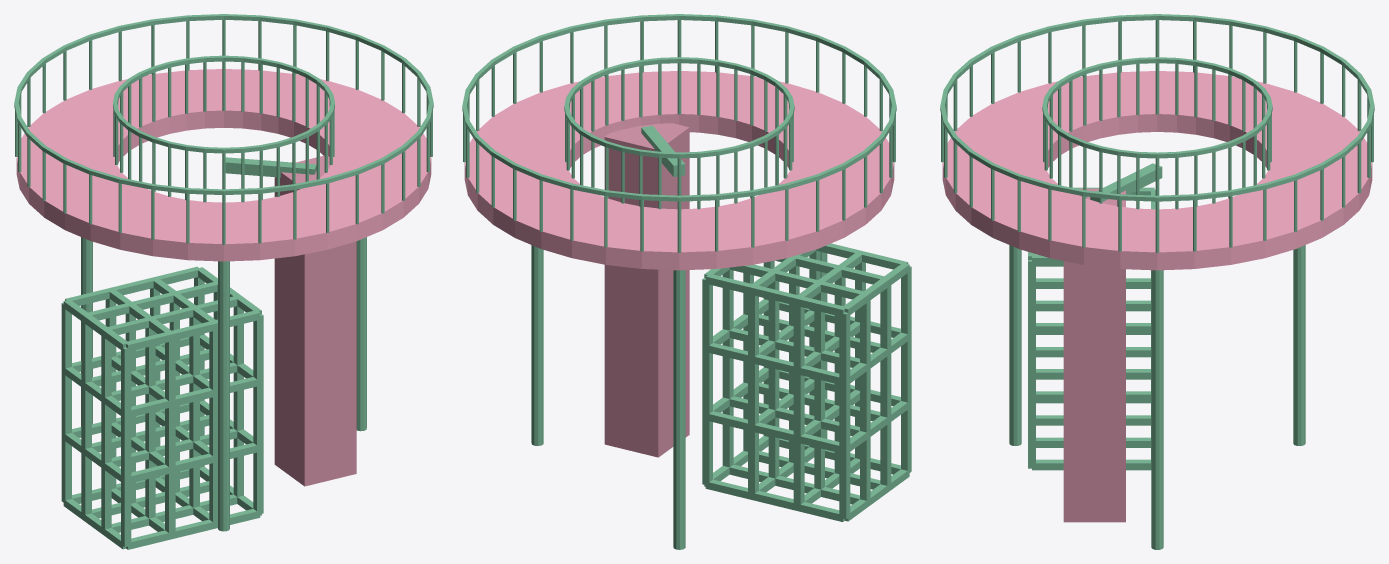
Rendered from folie_tag_151.glb.
The picture shows the model from 3 angles, left to right: view 1: azimuth 30°, elevation 25°; view 2: azimuth 150°, elevation 25°; view 3: azimuth 270°, elevation 25°; orthographic projection. The views are drawn at different scales.
Visible parts, largest first — view 1: folie_tag_151_00_ring, folie_tag_151_01_cage, folie_tag_151_line, folie_tag_151_core; view 2: folie_tag_151_00_ring, folie_tag_151_01_cage, folie_tag_151_line, folie_tag_151_core; view 3: folie_tag_151_00_ring, folie_tag_151_line, folie_tag_151_core, folie_tag_151_01_cage.
Part boxes in pixels (left/top/right/bottom): folie_tag_151_00_ring: left=16, top=69, right=431, bottom=261; folie_tag_151_01_cage: left=61, top=266, right=263, bottom=549; folie_tag_151_line: left=14, top=14, right=433, bottom=531; folie_tag_151_core: left=274, top=155, right=356, bottom=486; folie_tag_151_00_ring: left=464, top=71, right=894, bottom=270; folie_tag_151_01_cage: left=702, top=243, right=911, bottom=521; folie_tag_151_line: left=462, top=14, right=896, bottom=549; folie_tag_151_core: left=604, top=123, right=689, bottom=457; folie_tag_151_00_ring: left=942, top=71, right=1372, bottom=270; folie_tag_151_line: left=940, top=14, right=1374, bottom=549; folie_tag_151_core: left=1063, top=188, right=1125, bottom=522; folie_tag_151_01_cage: left=1028, top=187, right=1155, bottom=470.
Size of the model in its own units: 7.68 by 7.33 by 7.68.
